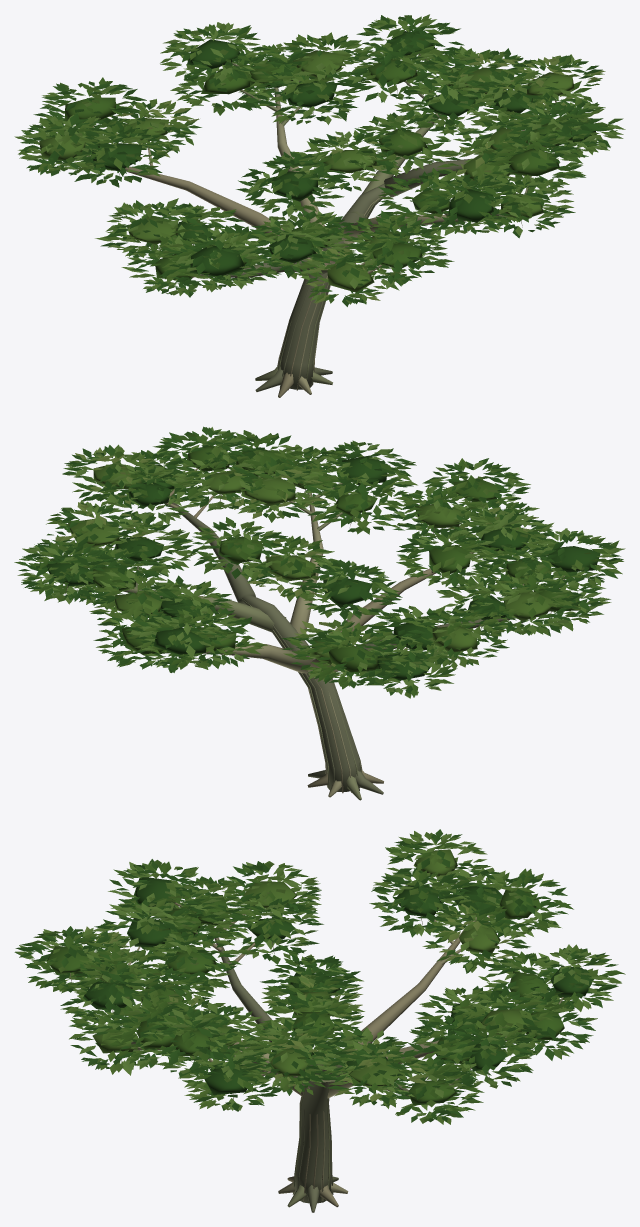
File: CanalRainTree.glb
3 renders of one model, top to bottom at view 1: azimuth 30°, elevation 25°; view 2: azimuth 150°, elevation 25°; view 3: azimuth 270°, elevation 25°, orthographic. The views are drawn at different scales.
Visible parts, largest first — view 1: CanalRainTree_Geometry; view 2: CanalRainTree_Geometry; view 3: CanalRainTree_Geometry.
Boxes of the visible parts, <box> form: CanalRainTree_Geometry: <box>14,14,625,397</box>; CanalRainTree_Geometry: <box>14,426,625,800</box>; CanalRainTree_Geometry: <box>14,829,625,1212</box>.
Bounding box in the file's own units: 28.65 × 14.32 × 28.31.
